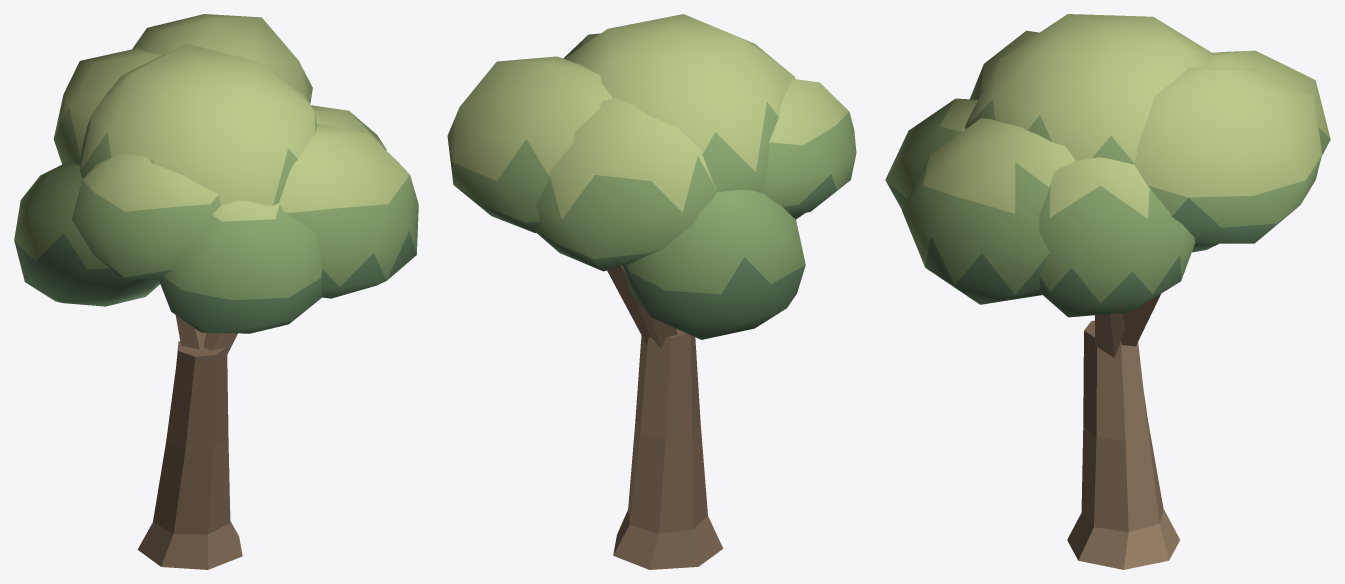
Rendered from Oak_0.glb.
3 renders of one model, left to right at view 1: azimuth 30°, elevation 25°; view 2: azimuth 150°, elevation 25°; view 3: azimuth 270°, elevation 25°, orthographic. The views are drawn at different scales.
Parts seen in each view (by area): view 1: Oak_0; view 2: Oak_0; view 3: Oak_0.
Boxes of the visible parts, x1=… form: Oak_0: x1=14, y1=14, x2=418, y2=569; Oak_0: x1=447, y1=14, x2=856, y2=569; Oak_0: x1=885, y1=14, x2=1330, y2=569.
Size of the model in its own units: 0.5857 by 0.8294 by 0.649.
